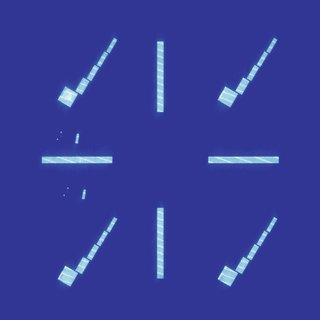overheated: (218, 93, 224, 98), (223, 264, 227, 269), (64, 265, 67, 269)
